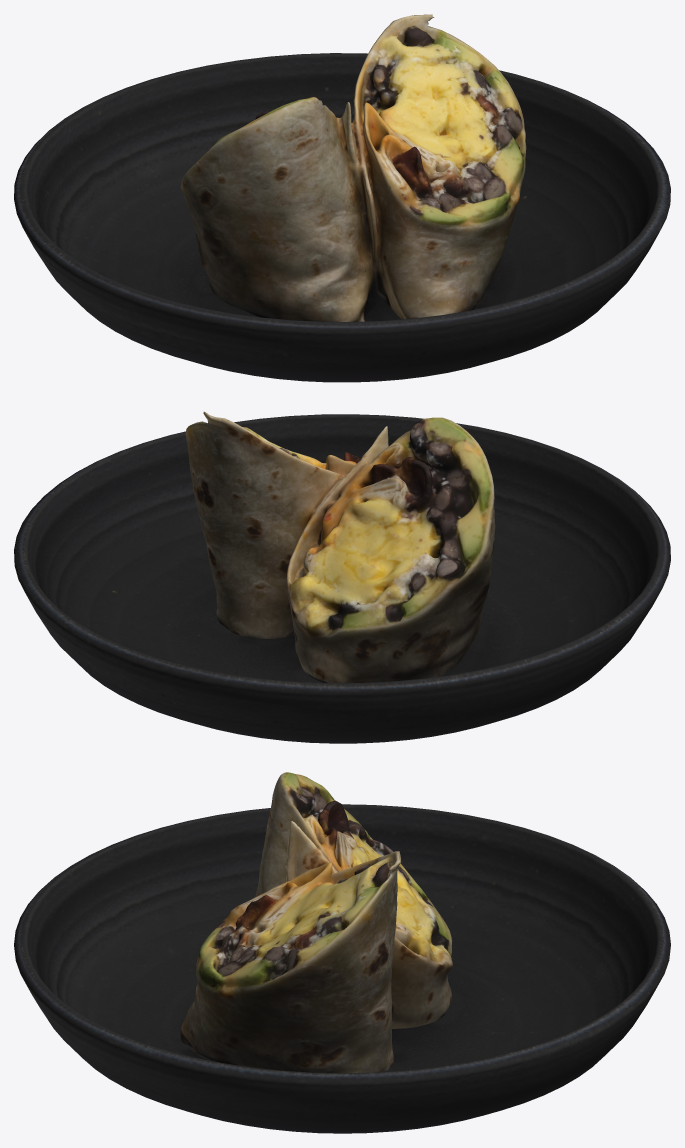
The model's file is Breakfast_wrap.FBX.
3 views of the same model, one above another, from view 1: azimuth 30°, elevation 25°; view 2: azimuth 150°, elevation 25°; view 3: azimuth 270°, elevation 25° (orthographic).
Visible parts, largest first — view 1: Breakfast_wrap; view 2: Breakfast_wrap; view 3: Breakfast_wrap.
Boxes of the visible parts, x1=… form: Breakfast_wrap: x1=14, y1=14, x2=670, y2=382; Breakfast_wrap: x1=14, y1=411, x2=670, y2=743; Breakfast_wrap: x1=14, y1=772, x2=670, y2=1133.
Bounding box in the file's own units: 4.33 × 1.67 × 4.33.
Materials: 1 (1 with a texture image).
